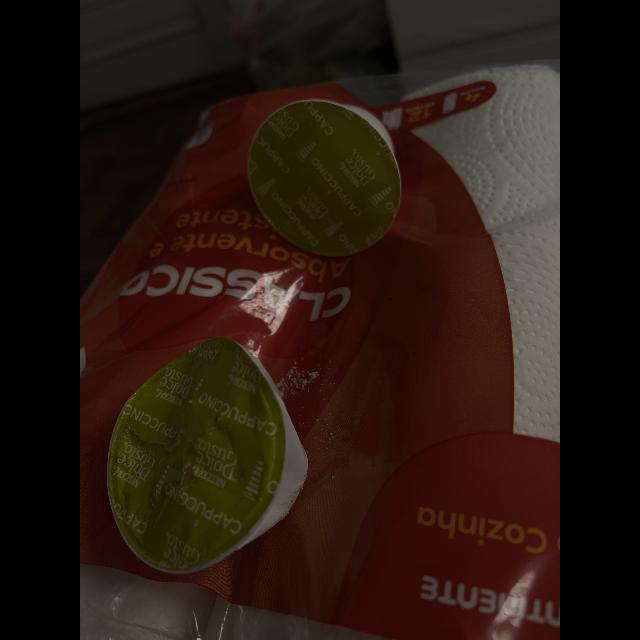damaged_capsule: (95, 328, 322, 576)
intact_capsule: (240, 90, 416, 264)
